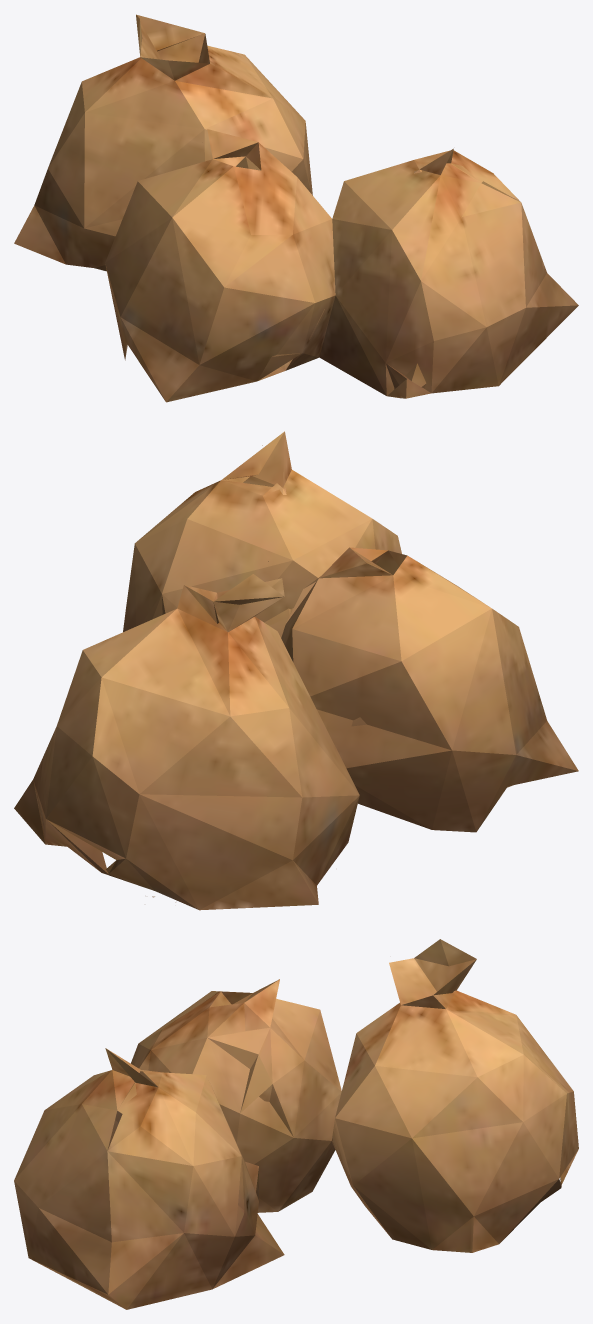
The model's file is sacks.glb.
3 views of the same model, one above another, from view 1: azimuth 30°, elevation 25°; view 2: azimuth 150°, elevation 25°; view 3: azimuth 270°, elevation 25° (orthographic). The views are drawn at different scales.
Visible parts, largest first — view 1: sacks; view 2: sacks; view 3: sacks.
Part boxes in pixels (bbox=[...]): sacks: bbox=[14, 14, 578, 402]; sacks: bbox=[14, 431, 578, 910]; sacks: bbox=[14, 939, 578, 1309].
Bounding box in the file's own units: 1.46 × 0.9088 × 1.85.
1 material, 1 textured.
